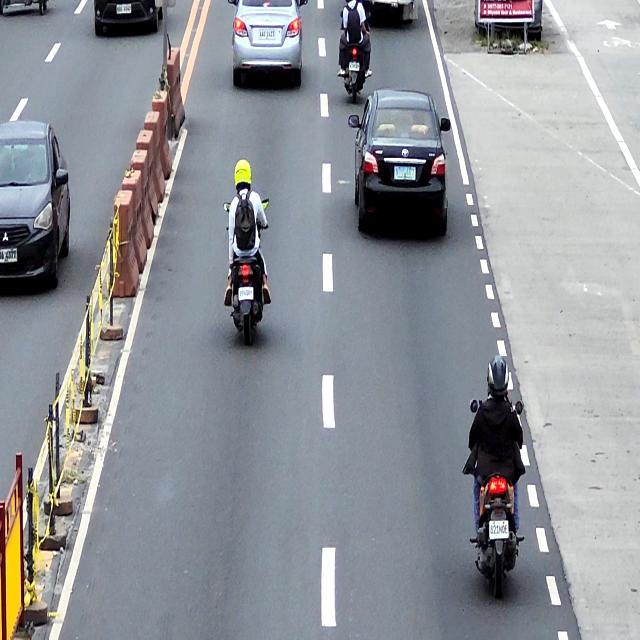Car: (348, 88, 451, 240), (0, 120, 70, 296), (227, 0, 309, 91)
License-Plate: (489, 520, 509, 540), (395, 167, 416, 180), (0, 250, 17, 262), (258, 29, 276, 40), (238, 288, 254, 300), (348, 61, 359, 70)
Motorcycle: (469, 397, 523, 599), (224, 201, 271, 346), (341, 8, 371, 99)
